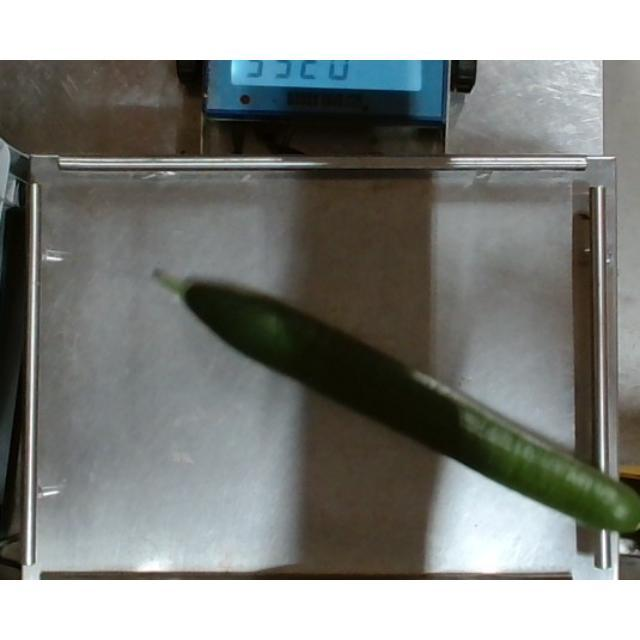cucumber: (145, 264, 640, 540)
